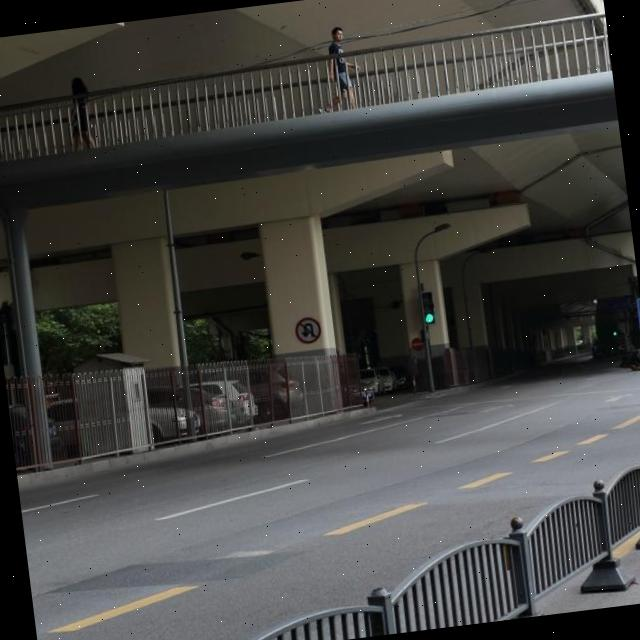curb: (17, 408, 374, 491), (413, 378, 492, 398)
